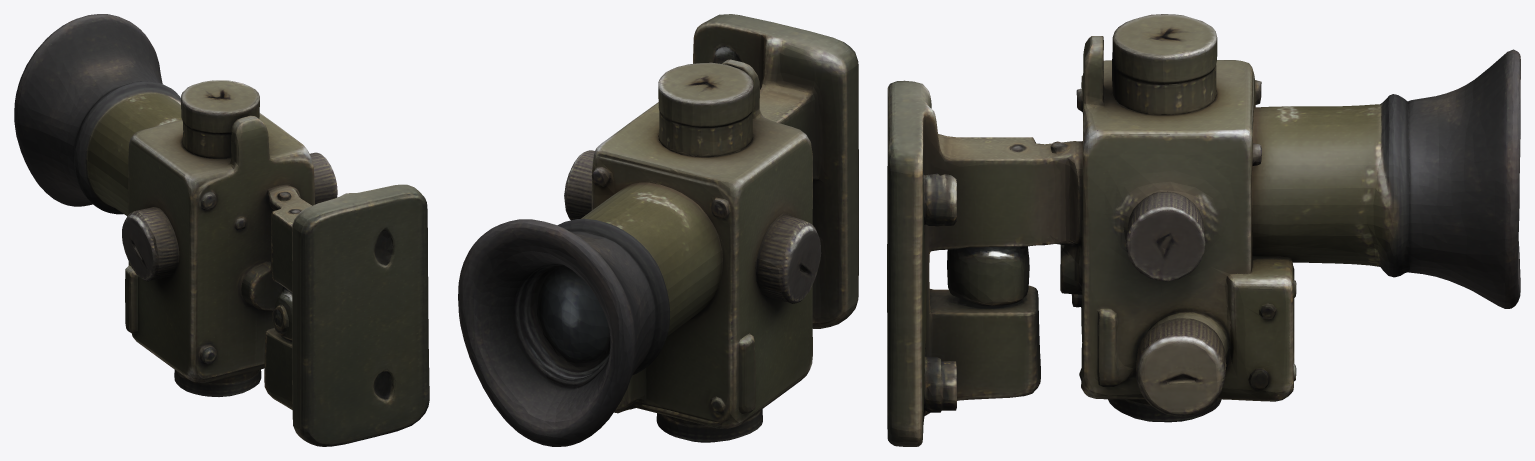
Rendered from (조준경)2c8d4d33-02ea-46af-9caa-ee0c95751132.glb.
3 views of the same model, side by side, from view 1: azimuth 30°, elevation 25°; view 2: azimuth 150°, elevation 25°; view 3: azimuth 270°, elevation 25° (orthographic). The views are drawn at different scales.
Parts seen in each view (by area): view 1: world; view 2: world; view 3: world.
Boxes of the visible parts, x1=… form: world: x1=14, y1=14, x2=429, y2=446; world: x1=458, y1=14, x2=858, y2=446; world: x1=887, y1=14, x2=1520, y2=446.
Bounding box in the file's own units: 0.3235 × 0.4449 × 0.695.
1 material, 1 textured.
